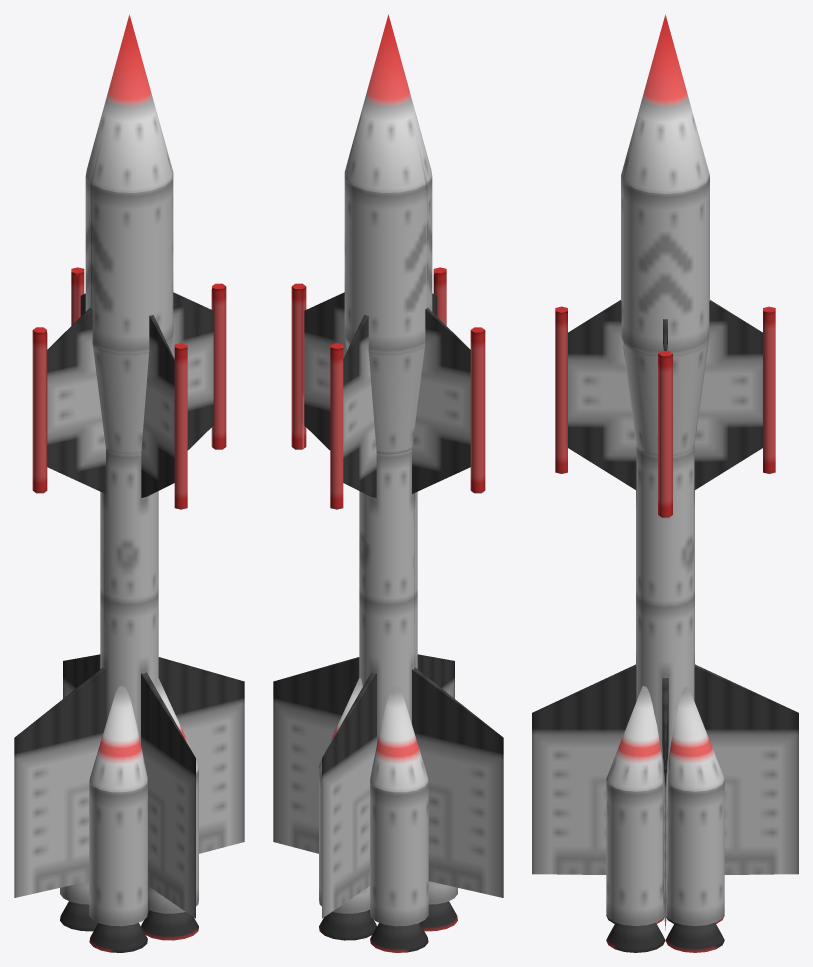
Rendered from missile_anti_ballistic.obj.
3 renders of one model, left to right at view 1: azimuth 30°, elevation 25°; view 2: azimuth 150°, elevation 25°; view 3: azimuth 270°, elevation 25°, orthographic.
Visible parts, largest first — view 1: missile_anti_ballistic; view 2: missile_anti_ballistic; view 3: missile_anti_ballistic.
Part boxes in pixels (box(x1,y1,x2,y2)): missile_anti_ballistic: box(14, 14, 244, 952); missile_anti_ballistic: box(273, 14, 503, 952); missile_anti_ballistic: box(532, 14, 798, 952).
Bounding box in the file's own units: 2.25 × 8.5 × 2.25.
